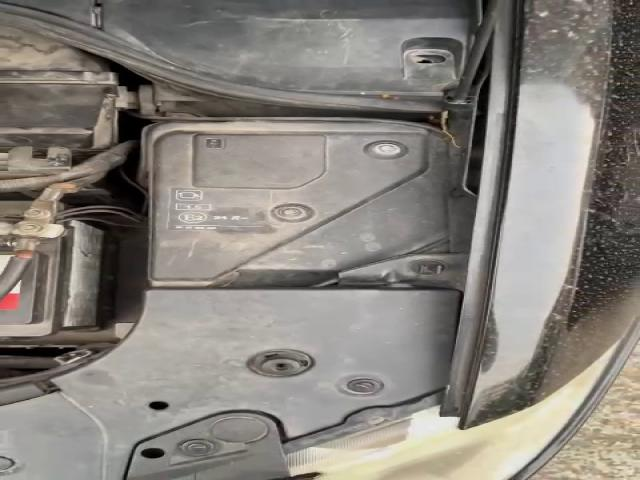accumulator: (0, 201, 104, 338)
fuse_box: (149, 130, 431, 281)
